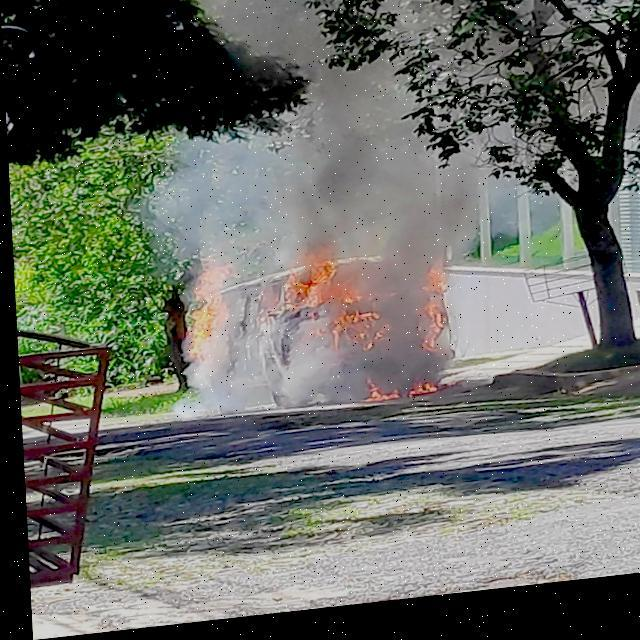Fire: (262, 254, 384, 366), (171, 264, 240, 358), (414, 272, 444, 364), (358, 386, 396, 412), (401, 388, 434, 404)
